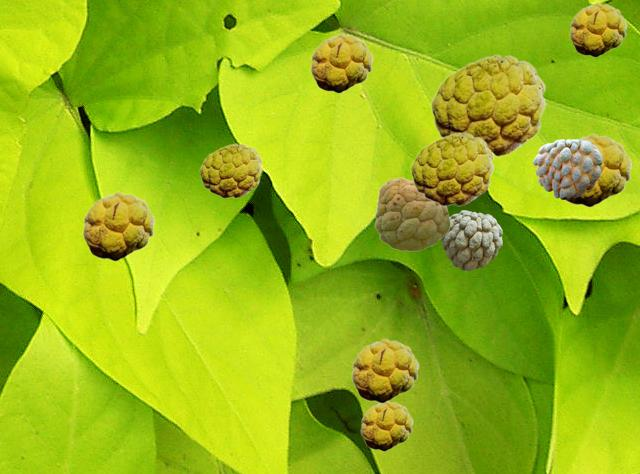atis: (430, 54, 545, 156), (410, 132, 493, 205), (374, 177, 449, 250), (82, 191, 154, 260), (563, 133, 631, 206), (351, 338, 418, 402), (533, 139, 601, 198), (310, 33, 372, 92), (441, 210, 501, 269), (199, 143, 261, 197), (569, 2, 626, 56), (360, 401, 412, 450)
